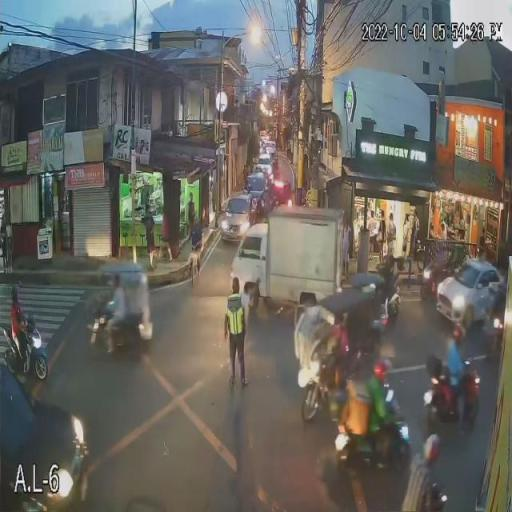helmet: (372, 360, 396, 384), (424, 433, 443, 462), (453, 324, 467, 345), (11, 286, 21, 304)
motorcycle: (327, 390, 412, 468), (424, 358, 481, 434), (0, 324, 50, 380)
rider: (366, 378, 402, 468), (445, 339, 470, 434), (9, 304, 31, 369)
